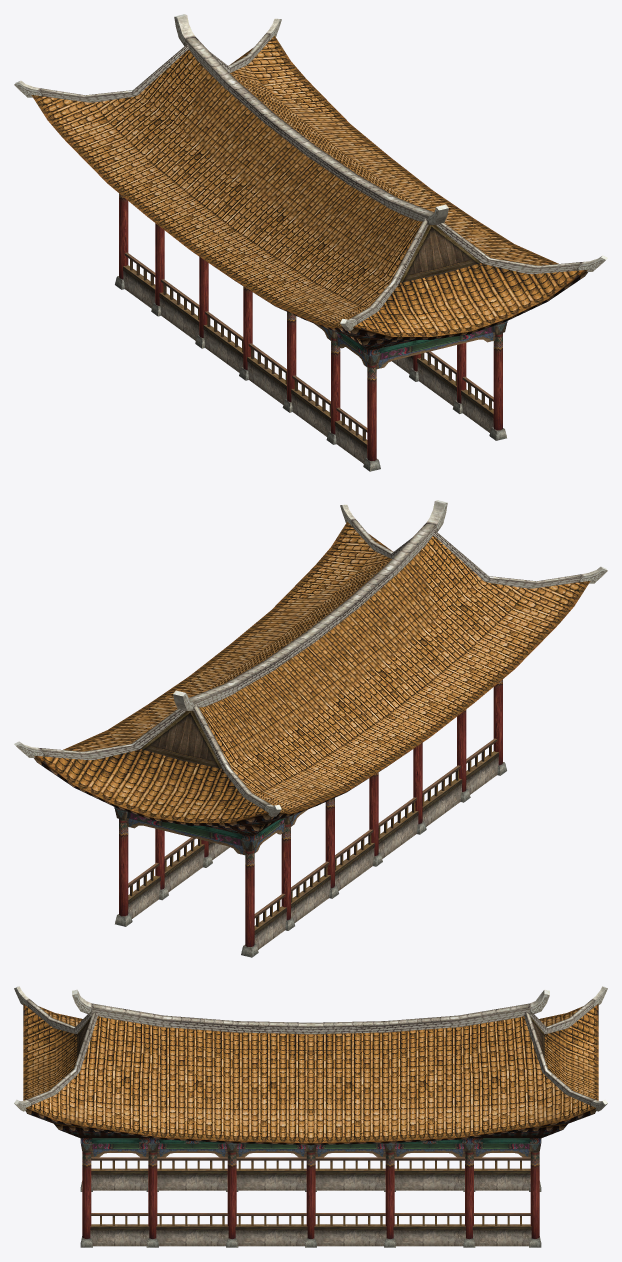
The model's file is otherworld_house_02.fbx.
3 views of the same model, one above another, from view 1: azimuth 30°, elevation 25°; view 2: azimuth 150°, elevation 25°; view 3: azimuth 270°, elevation 25° (orthographic). The views are drawn at different scales.
Visible parts, largest first — view 1: otherworld_house_02; view 2: otherworld_house_02; view 3: otherworld_house_02.
Boxes of the visible parts, x1=… form: otherworld_house_02: x1=14, y1=14, x2=607, y2=471; otherworld_house_02: x1=14, y1=500, x2=607, y2=957; otherworld_house_02: x1=14, y1=986, x2=607, y2=1247.
Bounding box in the file's own units: 14.13 × 12.62 × 30.06.
